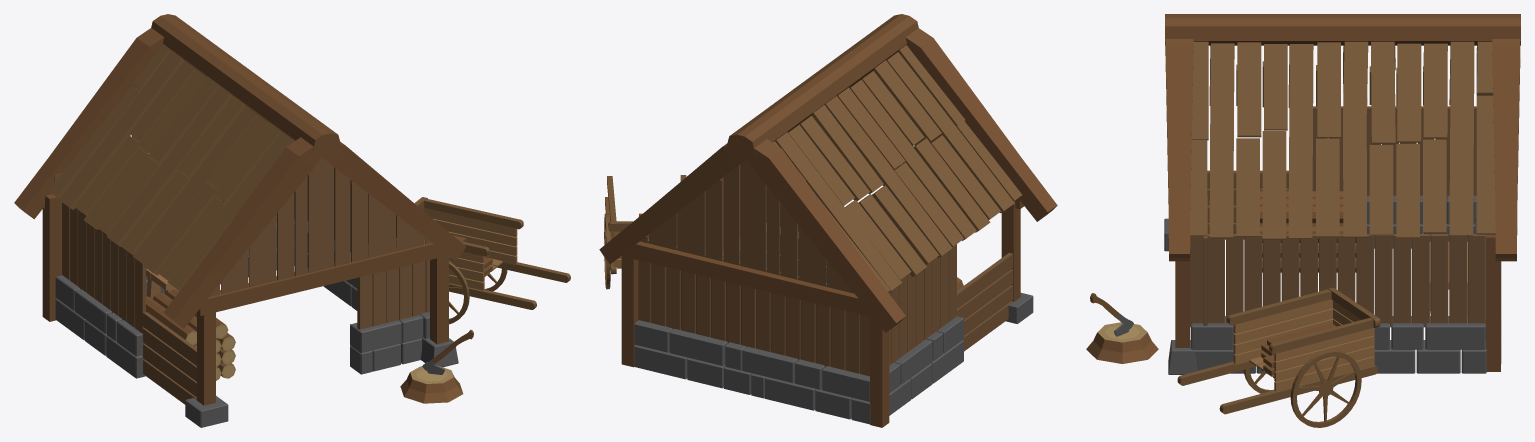
The model's file is Sawmill.fbx.
The picture shows the model from 3 angles, left to right: view 1: azimuth 30°, elevation 25°; view 2: azimuth 150°, elevation 25°; view 3: azimuth 270°, elevation 25°; orthographic projection. The views are drawn at different scales.
Visible parts, largest first — view 1: Cube.031, Cube.030, Cube.027, Cube.017, Cube.014, Cube.013, Cube.001, Cube.007, Cube.016, Cube.015, Cube.020, Cube.012 (+9 smaller); view 2: Cube.031, Cube.030, Cube.004, Cube.011, Cube.003, Cube.017, Cube.014, Cube.008, Cube.013, Cube.015, Cube.012, Cube.002 (+2 smaller); view 3: Cube.031, Cube.005, Cube.030, Cube.017, Cube.001, Cube.020, Circle, Cube.014, Cube.019, Cube.018, Circle.002, Cube.002 (+10 smaller).
Part boxes in pixels (bbox=[...]): Cube.031: bbox=[48, 44, 294, 290]; Cube.030: bbox=[14, 28, 466, 328]; Cube.027: bbox=[209, 157, 431, 296]; Cube.017: bbox=[151, 14, 341, 157]; Cube.014: bbox=[62, 202, 145, 333]; Cube.013: bbox=[55, 275, 145, 378]; Cube.001: bbox=[307, 221, 429, 374]; Cube.007: bbox=[196, 240, 448, 315]; Cube.016: bbox=[357, 237, 429, 329]; Cube.015: bbox=[142, 312, 196, 404]; Cube.020: bbox=[422, 208, 517, 290]; Cube.012: bbox=[42, 194, 61, 321]; Cube.031: bbox=[773, 45, 1022, 292]; Cube.030: bbox=[599, 28, 1057, 332]; Cube.004: bbox=[638, 239, 869, 376]; Cube.011: bbox=[640, 160, 854, 293]; Cube.003: bbox=[634, 320, 870, 424]; Cube.017: bbox=[726, 14, 918, 159]; Cube.014: bbox=[888, 244, 956, 365]; Cube.008: bbox=[621, 241, 873, 317]; Cube.013: bbox=[889, 316, 963, 415]; Cube.015: bbox=[957, 253, 1012, 351]; Cube.012: bbox=[870, 317, 889, 427]; Cube.002: bbox=[621, 256, 638, 367]; Cube.031: bbox=[1190, 41, 1495, 240]; Cube.005: bbox=[1190, 234, 1485, 327]; Cube.030: bbox=[1165, 39, 1520, 261]; Cube.017: bbox=[1165, 14, 1520, 45]; Cube.001: bbox=[1191, 316, 1486, 373]; Cube.020: bbox=[1233, 299, 1374, 391]; Circle: bbox=[1243, 350, 1361, 427]; Cube.014: bbox=[1312, 106, 1476, 195]; Cube.019: bbox=[1227, 289, 1373, 353]; Cube.018: bbox=[1177, 361, 1377, 414]; Circle.002: bbox=[1086, 322, 1158, 363]; Cube.002: bbox=[1486, 234, 1500, 371].
Bounding box in the file's own units: 843 × 510 × 688.
